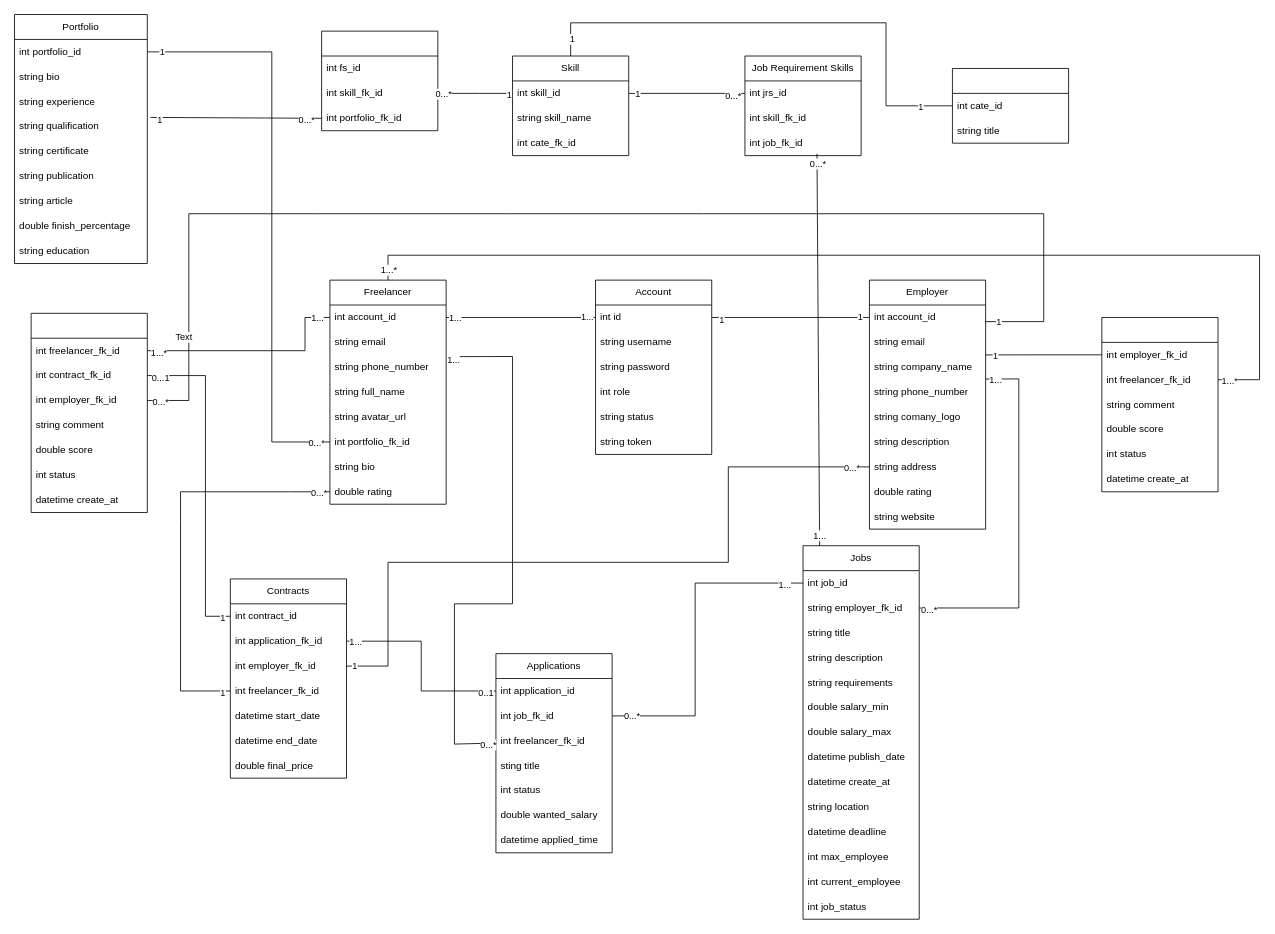
This 1275x934 diagram has some shape labels left out. The shapes that lost their labels are listed below. From the top down, each one's box as (x1, y1, x2, y2) in pixels, then its label:
(321, 30, 438, 131): Freelancer Skills
(952, 68, 1069, 143): Skill Categories
(30, 312, 147, 513): Freelancer Rating
(1101, 317, 1218, 492): Employer Reviews
